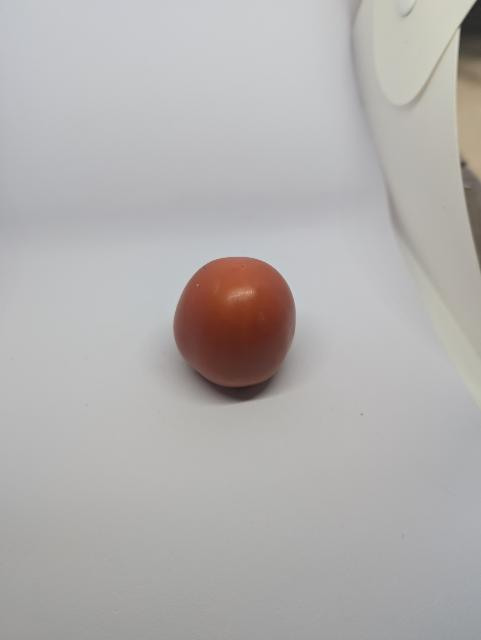red: (164, 250, 313, 404)
